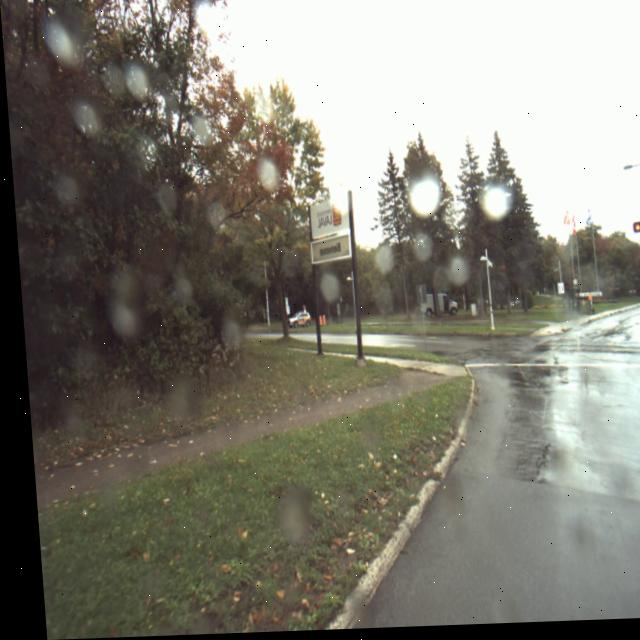trafficLight: (627, 221, 640, 238)
